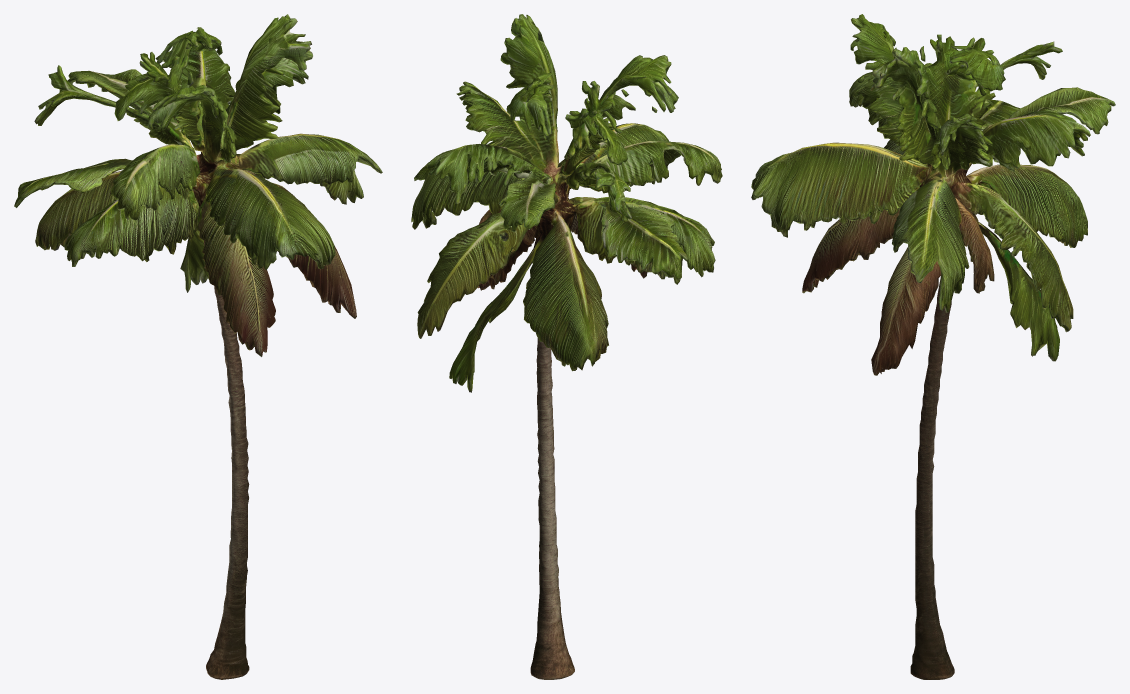
The model's file is Palm_Tree_on_0701034607_texture.glb.
3 views of the same model, side by side, from view 1: azimuth 30°, elevation 25°; view 2: azimuth 150°, elevation 25°; view 3: azimuth 270°, elevation 25° (orthographic). The views are drawn at different scales.
Parts seen in each view (by area): view 1: Mesh_0.003; view 2: Mesh_0.003; view 3: Mesh_0.003.
Boxes of the visible parts, bbox=[...] form: Mesh_0.003: bbox=[14, 14, 382, 679]; Mesh_0.003: bbox=[411, 14, 722, 679]; Mesh_0.003: bbox=[751, 14, 1115, 679].
Bounding box in the file's own units: 2.36 × 4.57 × 2.34.
Materials: 1 (1 with a texture image).
